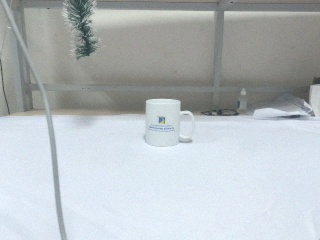bottle: (236, 88, 248, 114)
cup: (143, 97, 182, 148)
